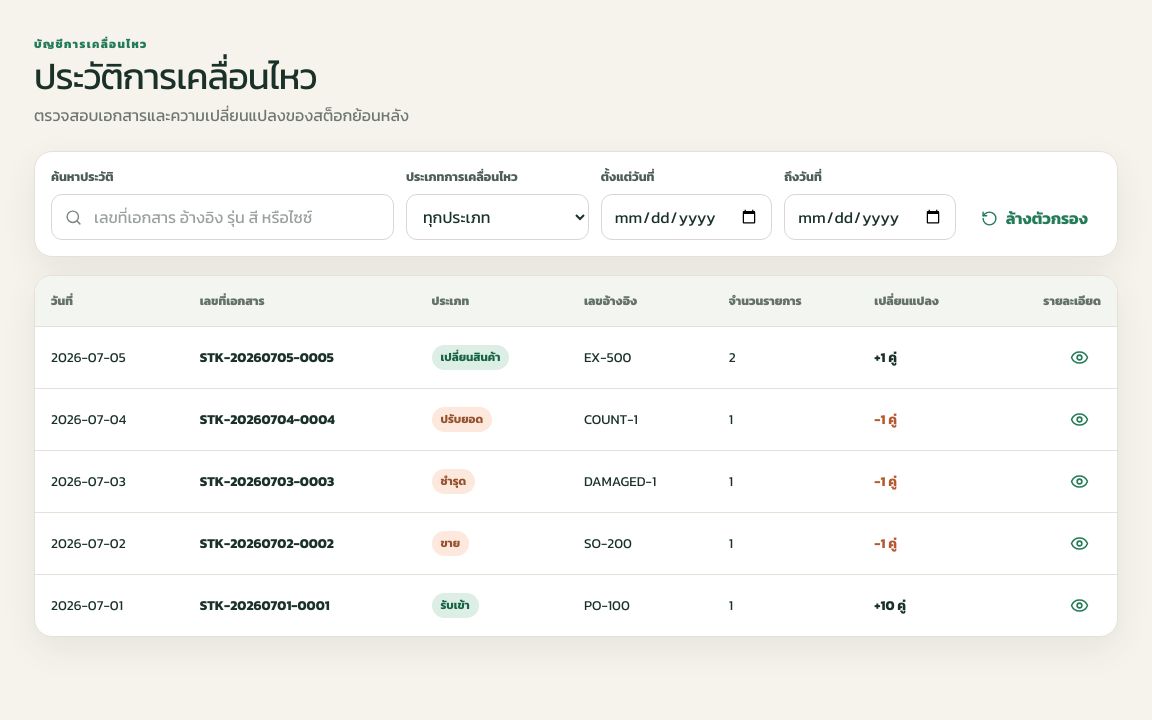
HistoryPage › renders Thai movement labels and filters by type, inclusive date range, and joined search
Expected: the text "บัญชีการเคลื่อนไหว" is shown, top-left (34, 35), bottom-right (148, 53)
Expected: the text "รับเข้า" is shown, top-left (432, 593), bottom-right (479, 618)
Select "เปลี่ยนสินค้า" in the dropdown labelled "ประเภทการเคลื่อนไหว": {"x": 497, "y": 217} top-left (407, 195), bottom-right (588, 239)
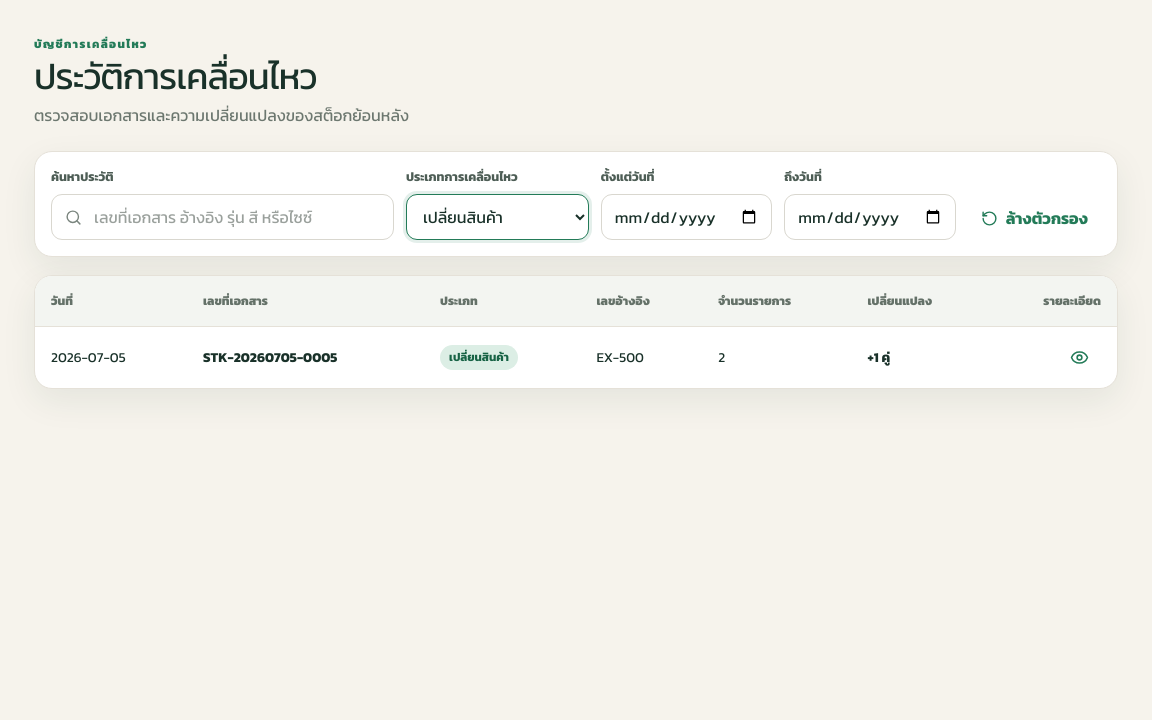
Expected: the text "EX-500" is shown, top-left (580, 326), bottom-right (702, 388)
Expected: the number of rows is 2, top-left (35, 276), bottom-right (1117, 326); top-left (35, 326), bottom-right (1117, 388)
Select "ทุกประเภท" in the dropdown labelled "ประเภทการเคลื่อนไหว": {"x": 497, "y": 217} top-left (407, 195), bottom-right (588, 239)
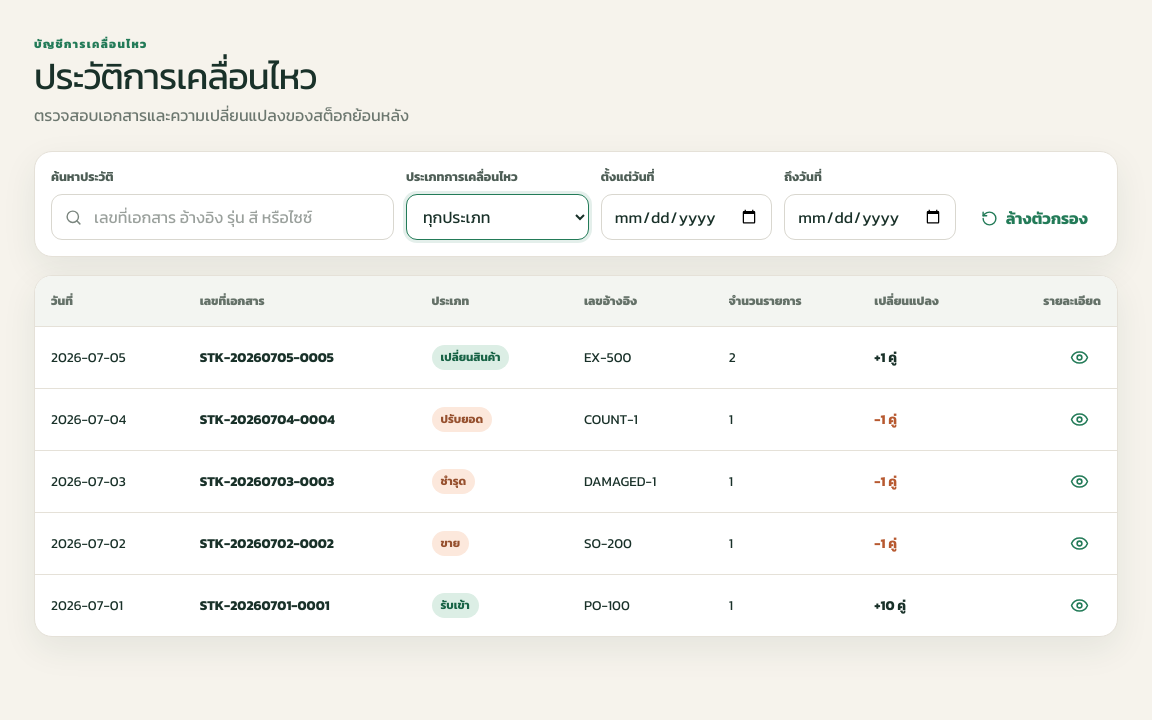
In the search field labelled "ค้นหาประวัติ": {"x": 237, "y": 217} top-left (82, 195), bottom-right (393, 239), type "Castor"
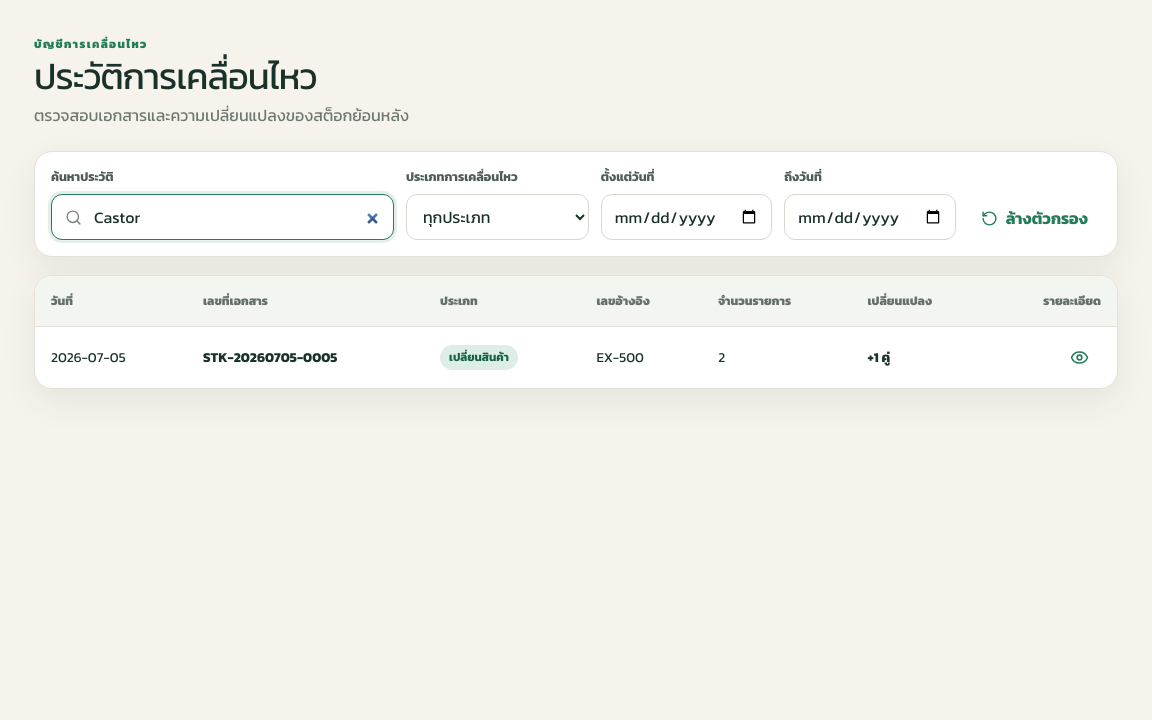
Expected: the text "EX-500" is shown, top-left (580, 326), bottom-right (702, 388)
Expected: the number of rows is 2, top-left (35, 276), bottom-right (1117, 326); top-left (35, 326), bottom-right (1117, 388)
Clear the search field labelled "ค้นหาประวัติ": {"x": 237, "y": 217} top-left (82, 195), bottom-right (393, 239)
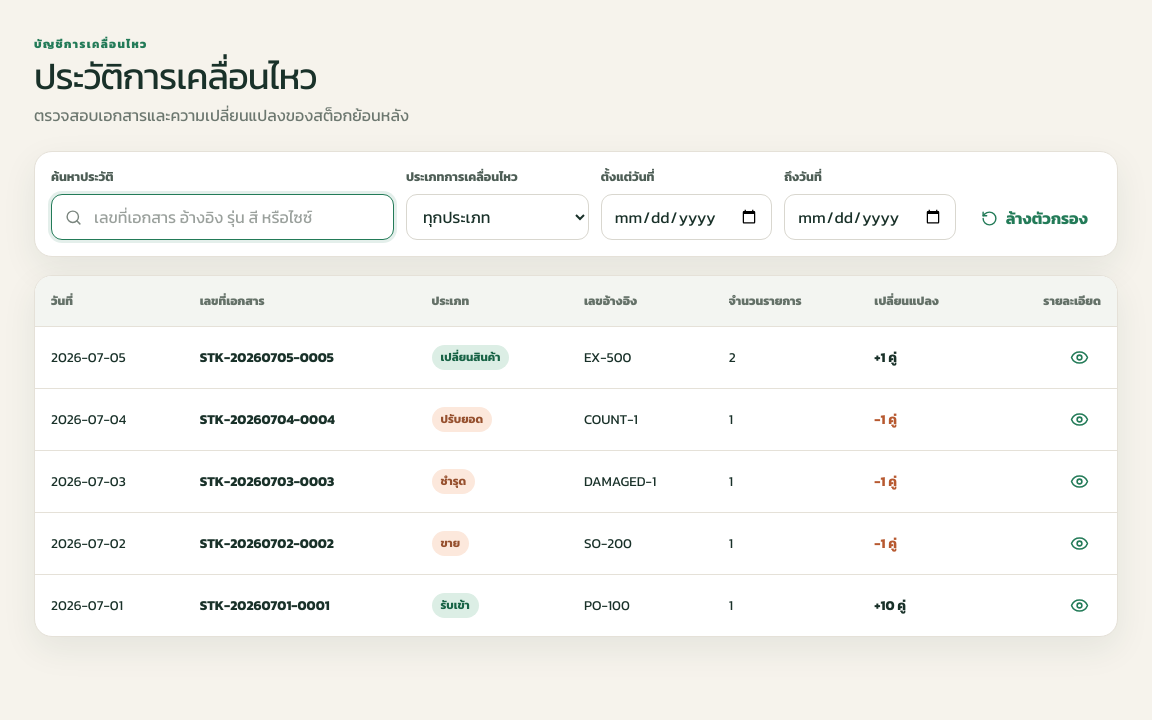
In the date field labelled "ตั้งแต่วันที่": {"x": 687, "y": 217} top-left (602, 195), bottom-right (771, 239), type "2026-07-02"
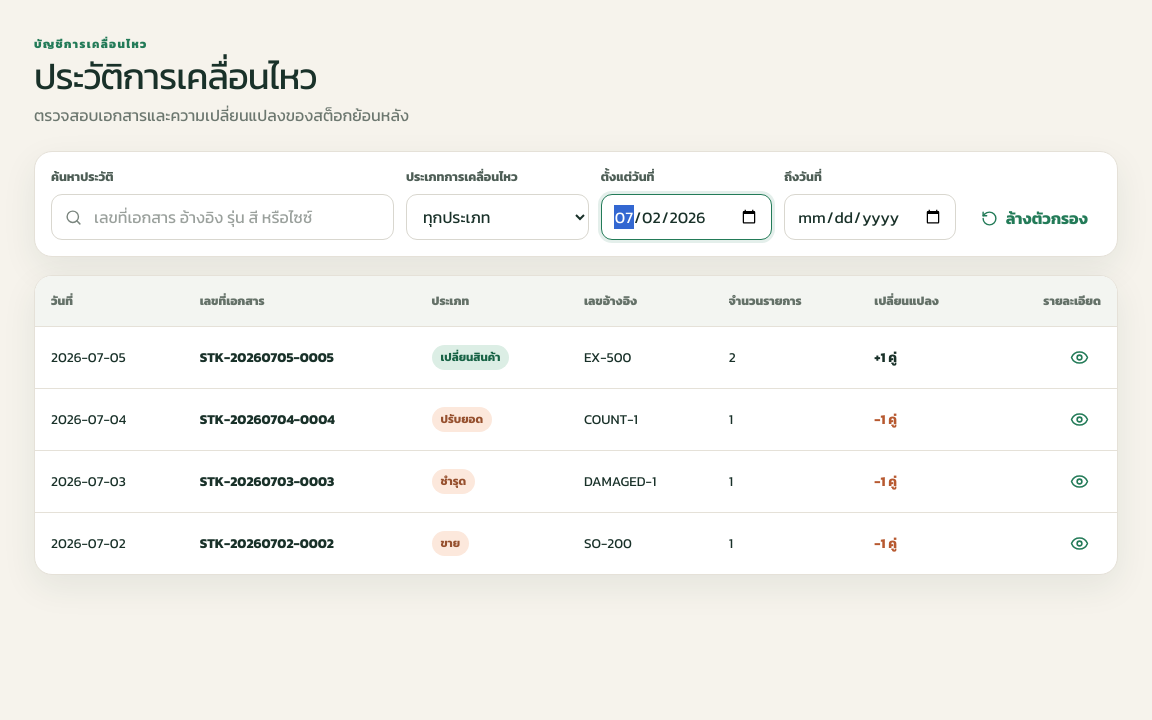
In the date field labelled "ถึงวันที่": {"x": 870, "y": 217} top-left (785, 195), bottom-right (955, 239), type "2026-07-03"
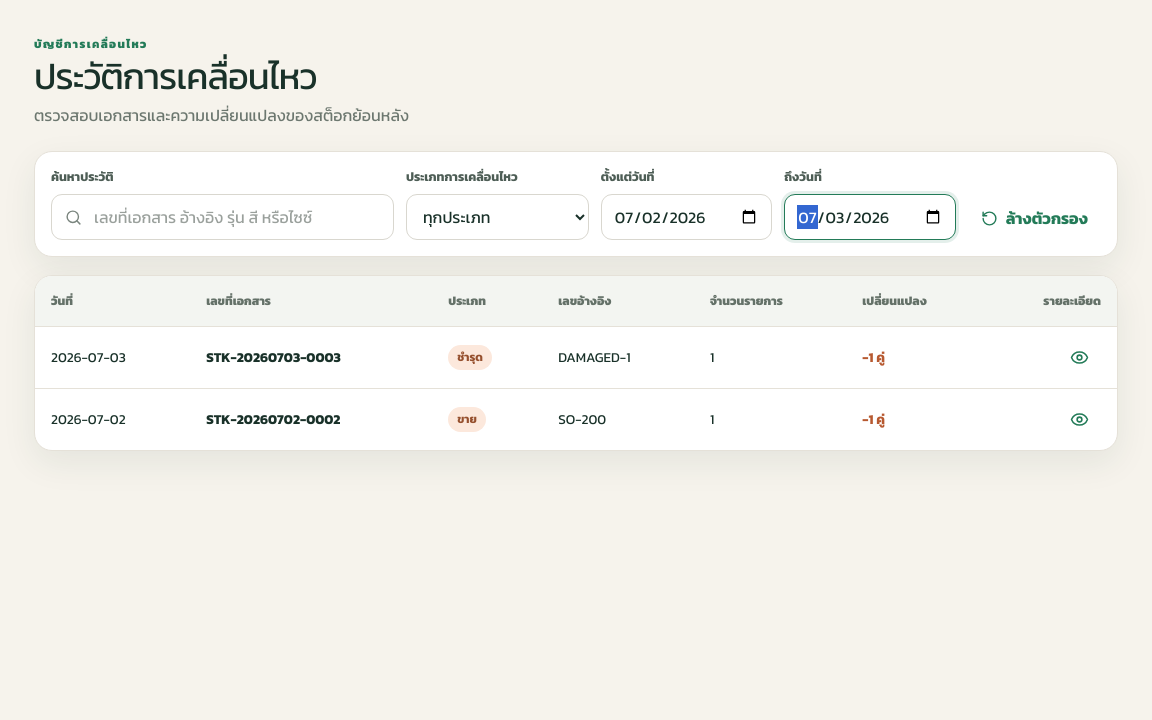
Expected: the number of rows is 3, top-left (35, 276), bottom-right (1117, 326); top-left (35, 326), bottom-right (1117, 388); top-left (35, 388), bottom-right (1117, 450)
